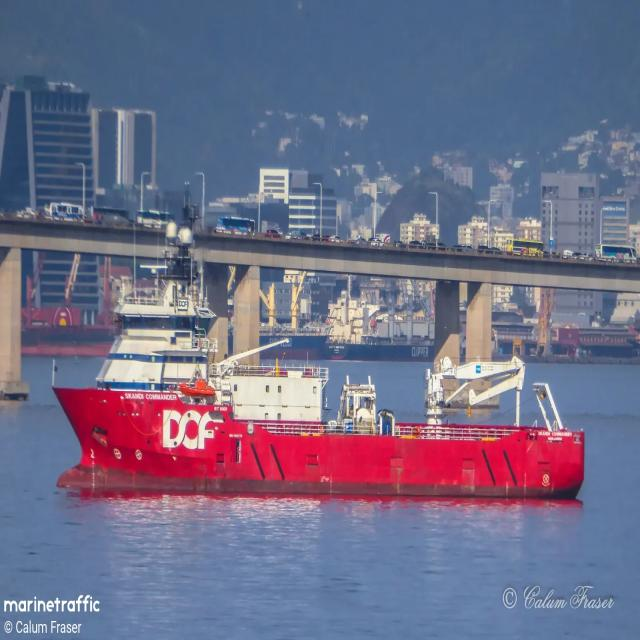Offshore: (53, 220, 584, 498)
